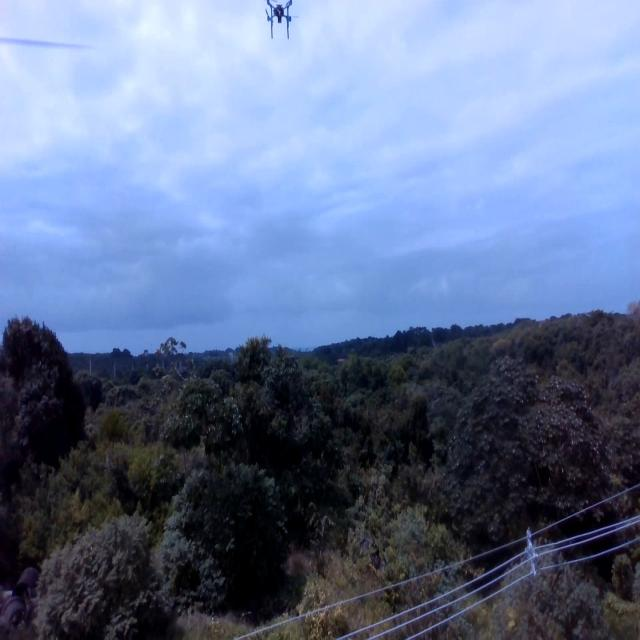-uav-: (264, 0, 304, 43)
